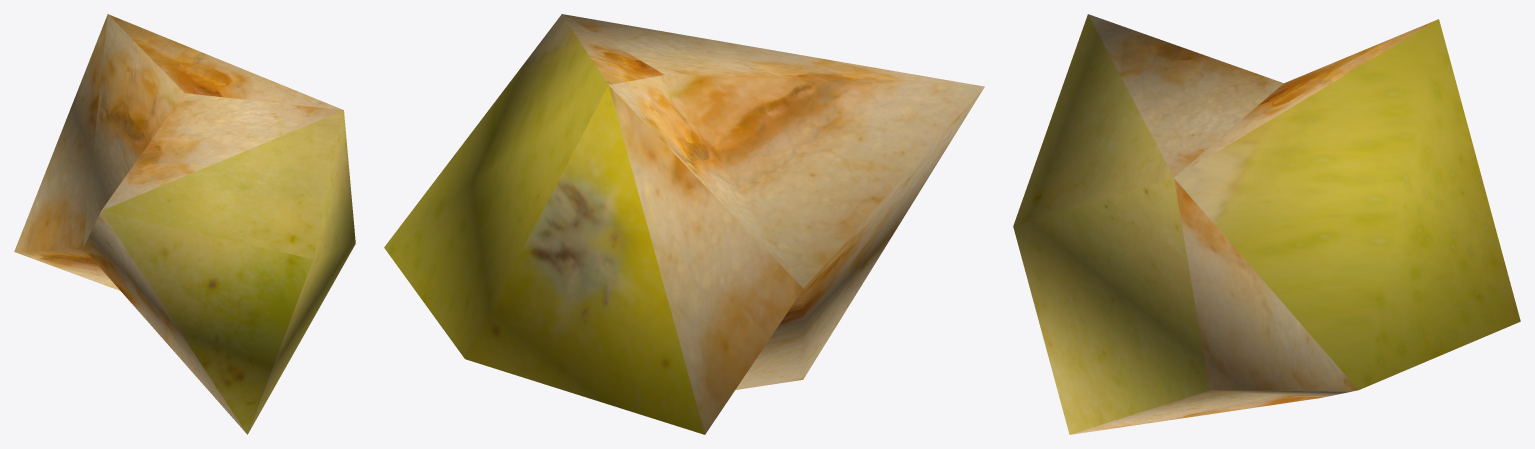
Rendered from BittenApple_2.obj.
3 views of the same model, side by side, from view 1: azimuth 30°, elevation 25°; view 2: azimuth 150°, elevation 25°; view 3: azimuth 270°, elevation 25° (orthographic). The views are drawn at different scales.
Visible parts, largest first — view 1: tgyociqpa_LOD0_TIER2_000; view 2: tgyociqpa_LOD0_TIER2_000; view 3: tgyociqpa_LOD0_TIER2_000.
Part boxes in pixels (x1,y1,x2,y2): tgyociqpa_LOD0_TIER2_000: [14, 14, 355, 434]; tgyociqpa_LOD0_TIER2_000: [384, 14, 984, 434]; tgyociqpa_LOD0_TIER2_000: [1013, 14, 1520, 434].
Size of the model in its own units: 0.8925 by 0.8092 by 0.8934.
